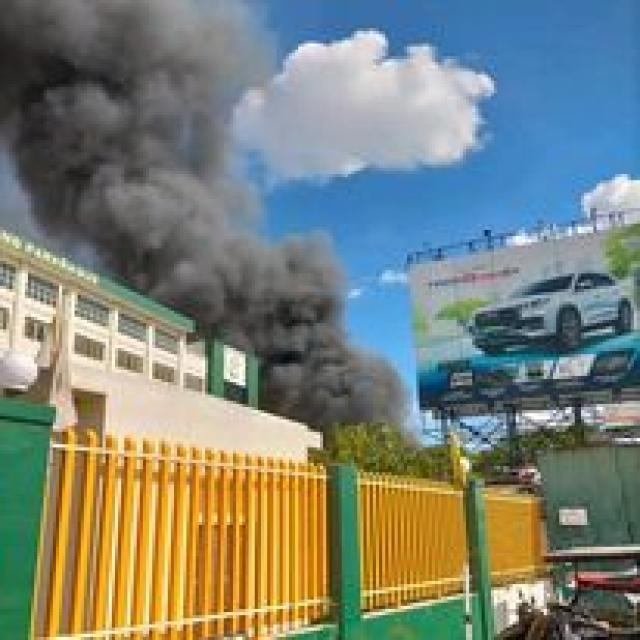Smoke: (6, 0, 246, 170), (51, 158, 242, 260), (208, 226, 340, 344), (272, 342, 404, 424)
